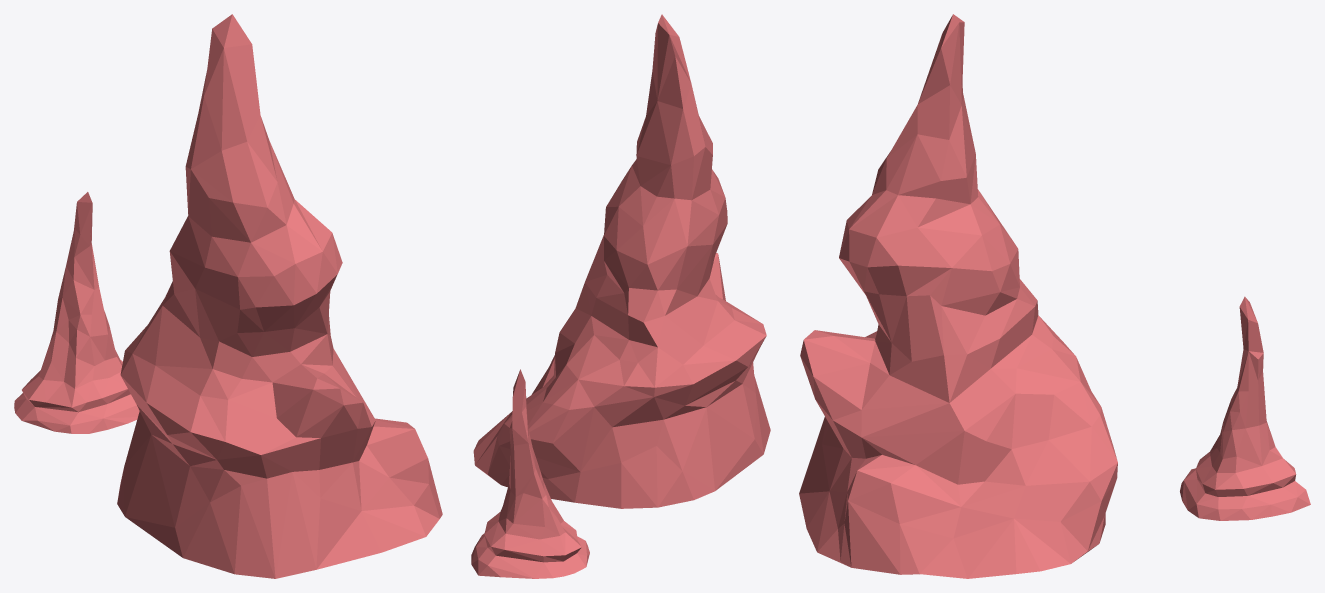
Rendered from 02-StalagmiteCrookedPointy.fbx.
3 renders of one model, left to right at view 1: azimuth 30°, elevation 25°; view 2: azimuth 150°, elevation 25°; view 3: azimuth 270°, elevation 25°, orthographic. The views are drawn at different scales.
Parts seen in each view (by area): view 1: StalagmiteCrookedPointyBig, StalagmiteCrookedPointySmall; view 2: StalagmiteCrookedPointyBig, StalagmiteCrookedPointySmall; view 3: StalagmiteCrookedPointyBig, StalagmiteCrookedPointySmall.
Part boxes in pixels (x1=…): StalagmiteCrookedPointyBig: x1=117, y1=14, x2=442, y2=578; StalagmiteCrookedPointySmall: x1=14, y1=192, x2=139, y2=433; StalagmiteCrookedPointyBig: x1=473, y1=14, x2=770, y2=508; StalagmiteCrookedPointySmall: x1=471, y1=369, x2=589, y2=578; StalagmiteCrookedPointyBig: x1=799, y1=14, x2=1117, y2=578; StalagmiteCrookedPointySmall: x1=1180, y1=296, x2=1310, y2=520.
Size of the model in its own units: 200 by 366 by 350.
